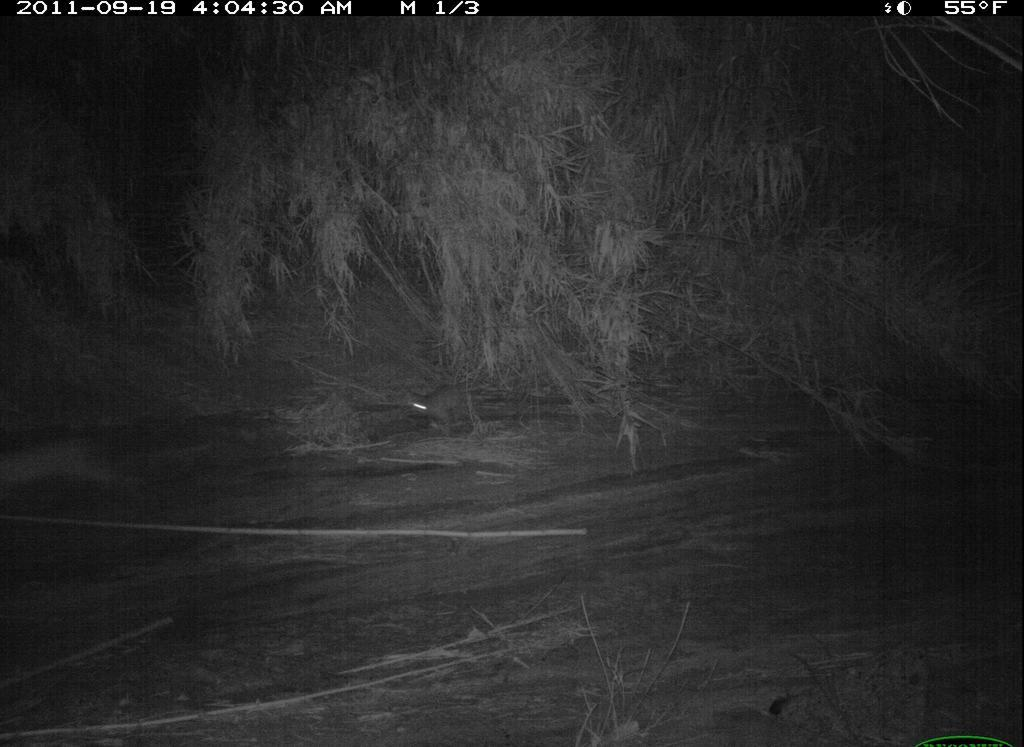bobcat: (391, 369, 489, 447)
